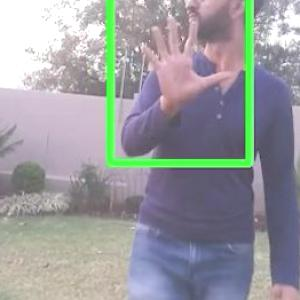follow_hand: (132, 8, 236, 109)
